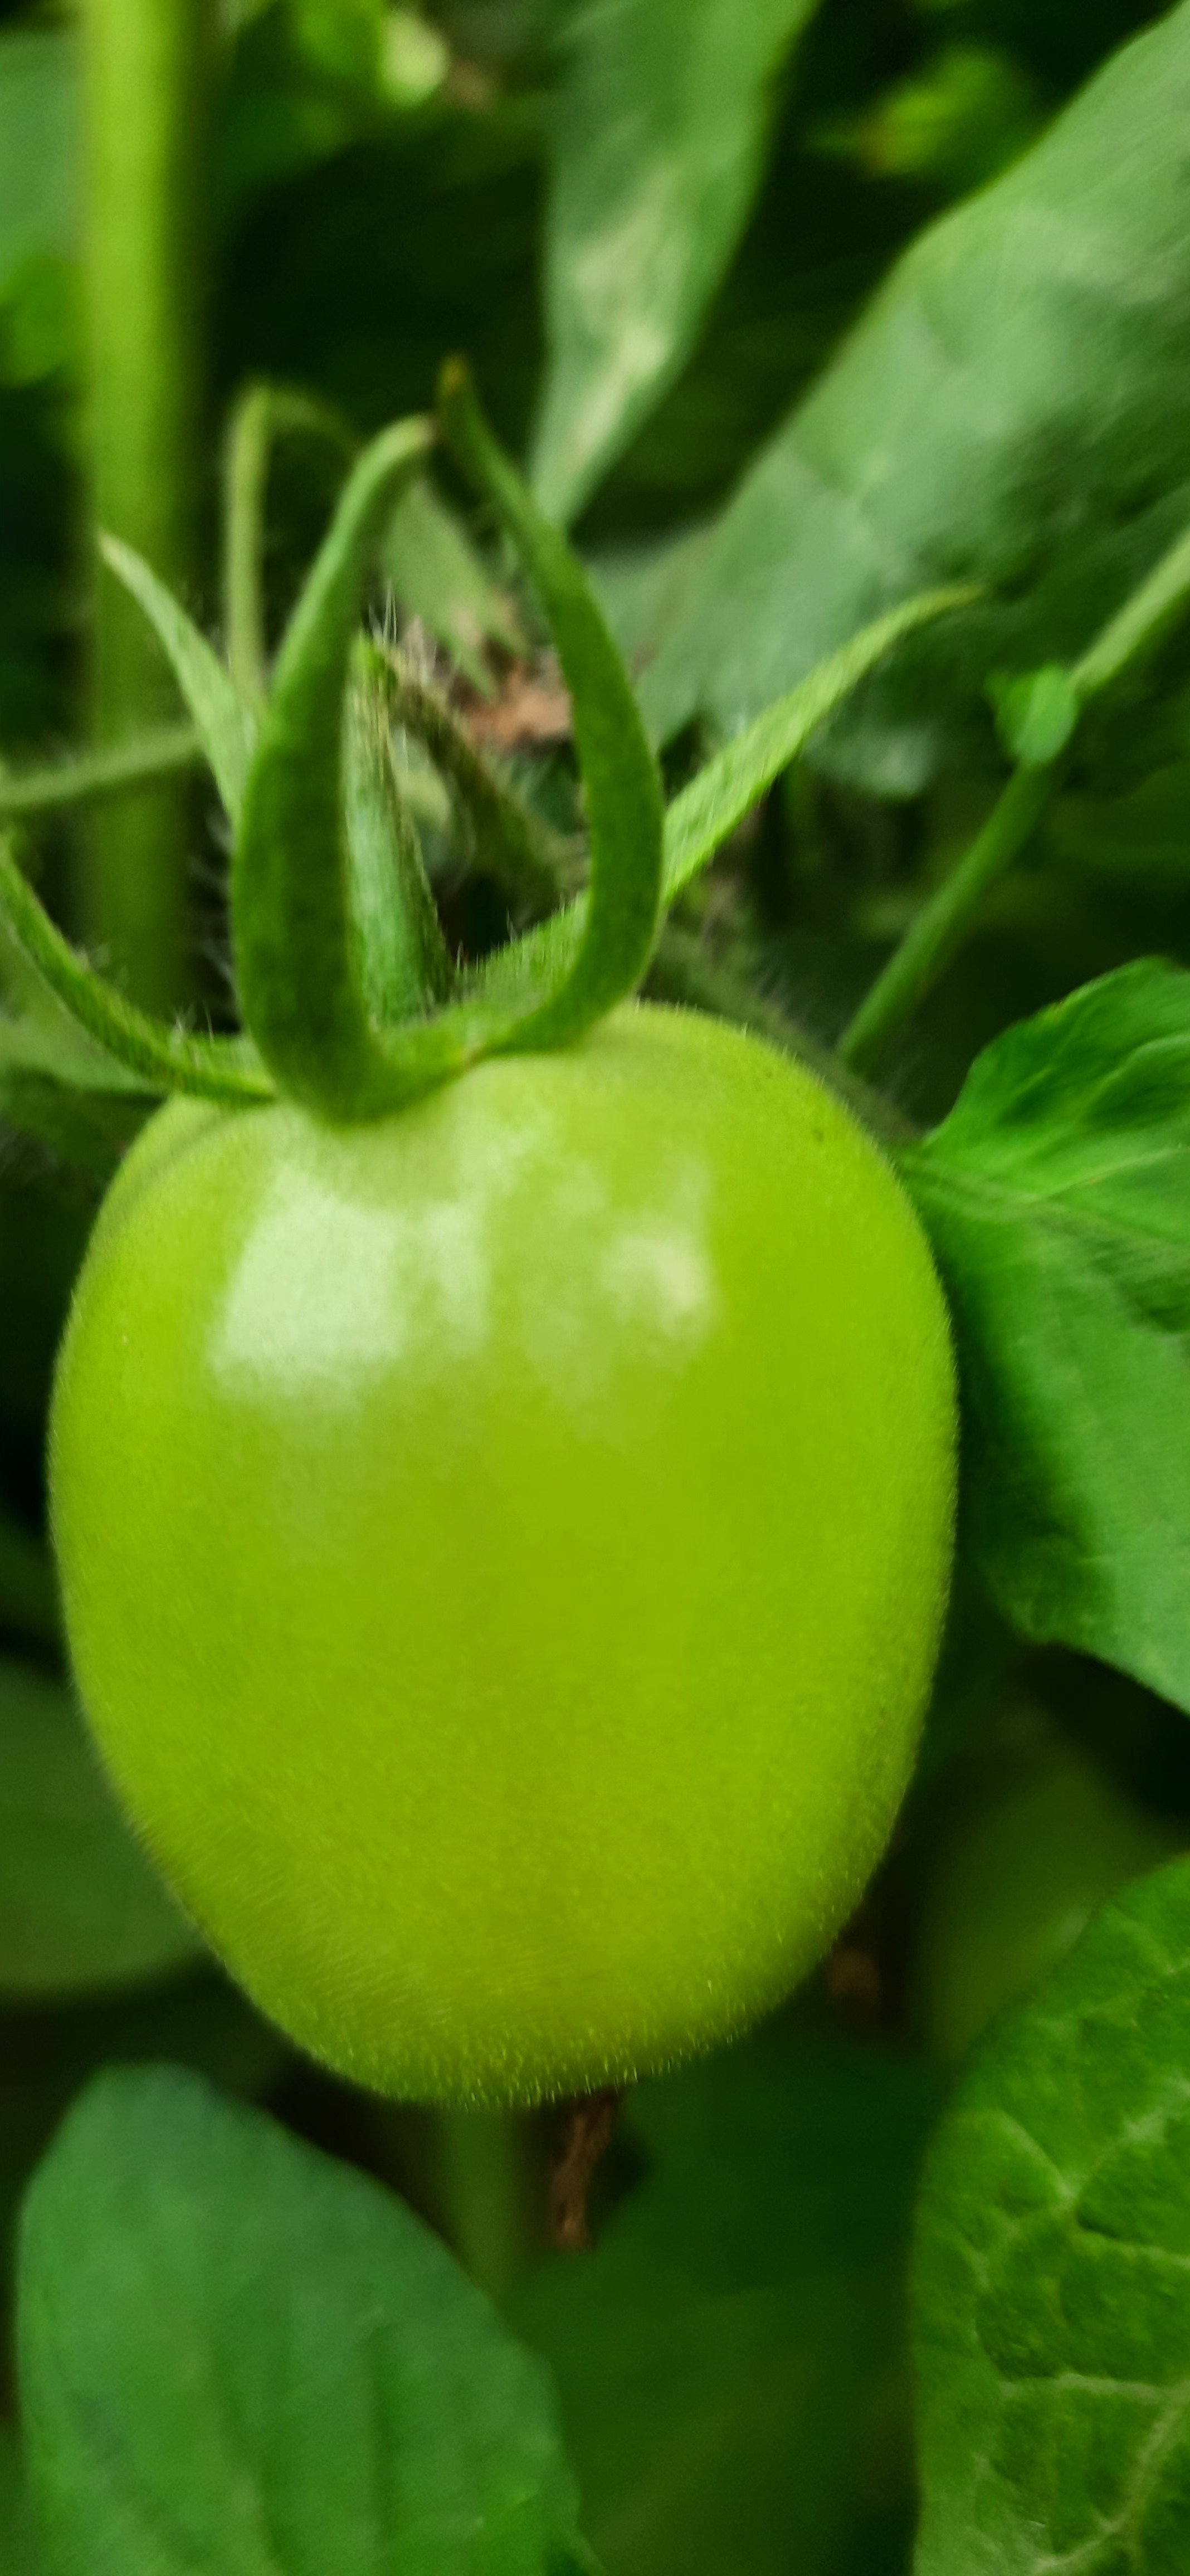raw_tomato: (76, 887, 1075, 2152)
